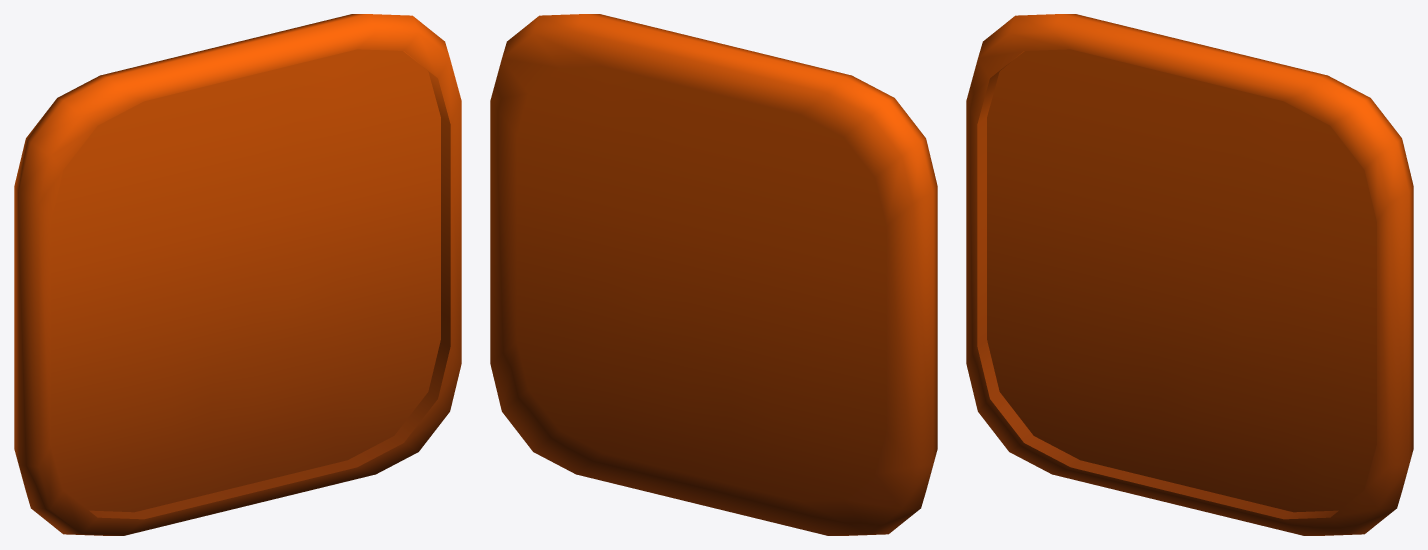
Rendered from Placa.fbx.
3 renders of one model, left to right at view 1: azimuth 30°, elevation 25°; view 2: azimuth 150°, elevation 25°; view 3: azimuth 330°, elevation 25°, orthographic.
Visible parts, largest first — view 1: Placa; view 2: Placa; view 3: Placa.
Part boxes in pixels (x1,y1,x2,y2): Placa: (14,14,461,535); Placa: (490,14,937,535); Placa: (966,14,1413,535).
Bounding box in the file's own units: 99.46 × 99.46 × 9.83.
Materials: 1 (1 with a texture image).
